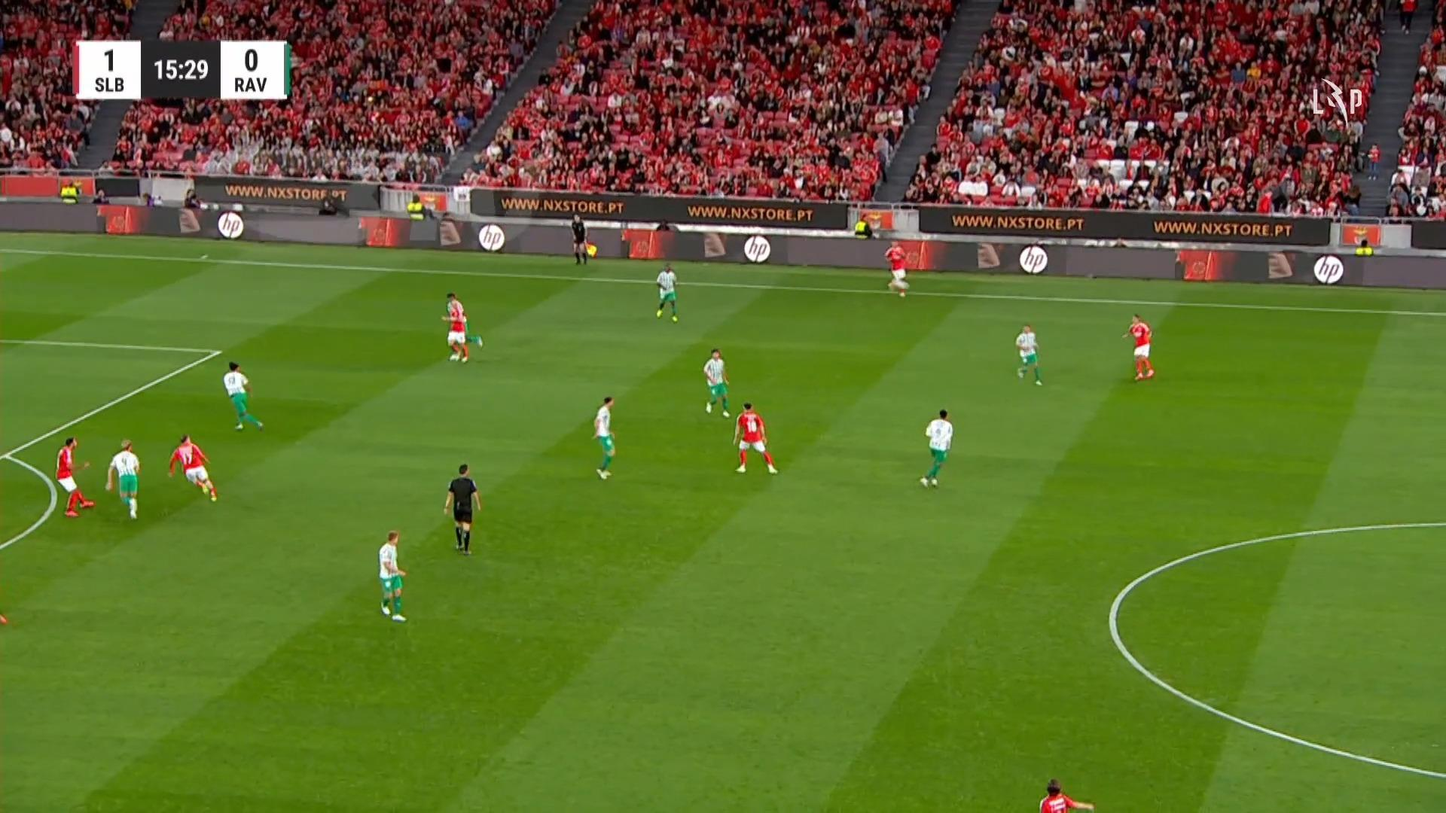ball: (473, 335, 483, 348)
player: (167, 433, 217, 502), (731, 401, 778, 474), (55, 436, 96, 517), (222, 361, 264, 431), (105, 438, 141, 519), (377, 530, 407, 621), (919, 408, 953, 488), (1121, 313, 1155, 381), (702, 348, 731, 418), (592, 395, 616, 479), (441, 291, 469, 363), (1039, 778, 1094, 811), (1014, 324, 1042, 385), (883, 240, 911, 297), (654, 262, 679, 322)
referee: (442, 462, 481, 555), (570, 212, 588, 265)
